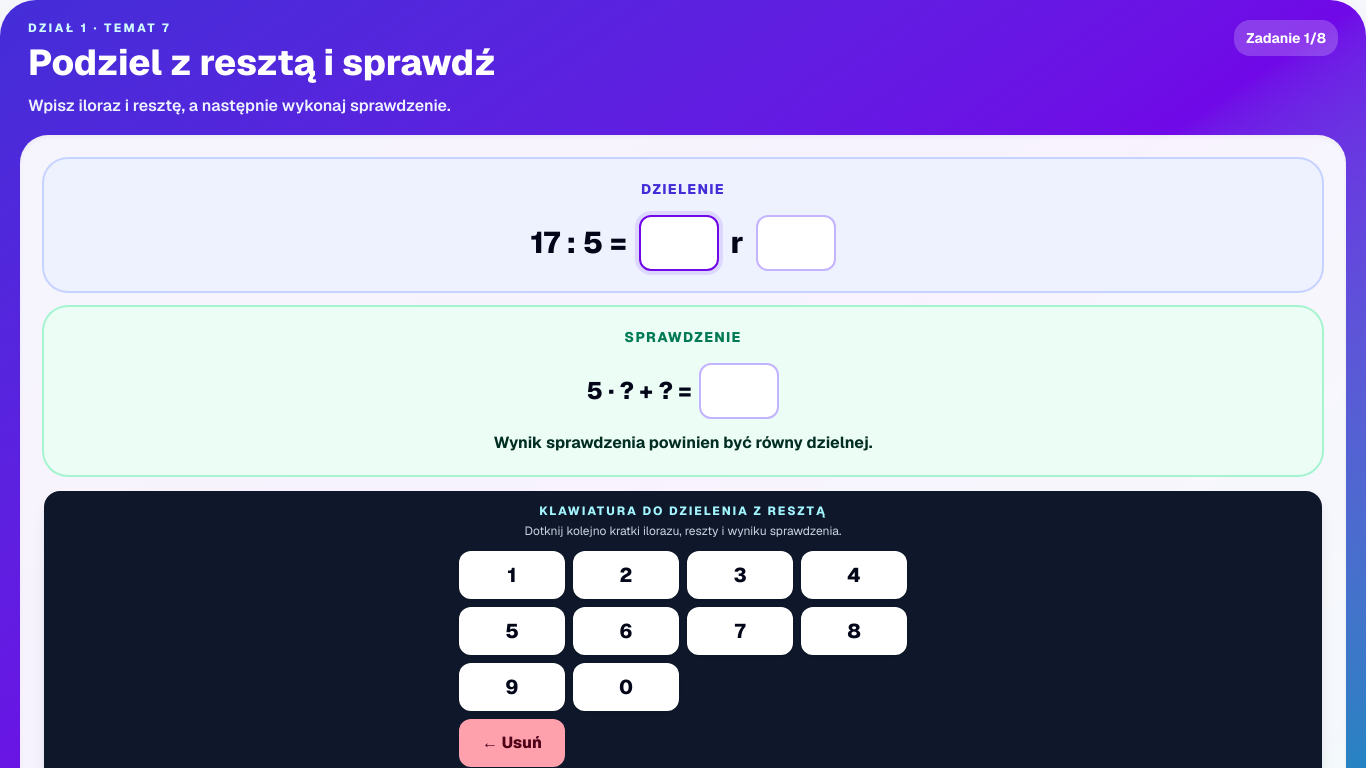
Grade4RemainderDivisionLessonLab › blokuje klawiaturę urządzenia i wymaga pełnego sprawdzenia
This screenshot has width=1366, height=768.
Click the button "3".
click(740, 575)  # box [687,551,793,599]
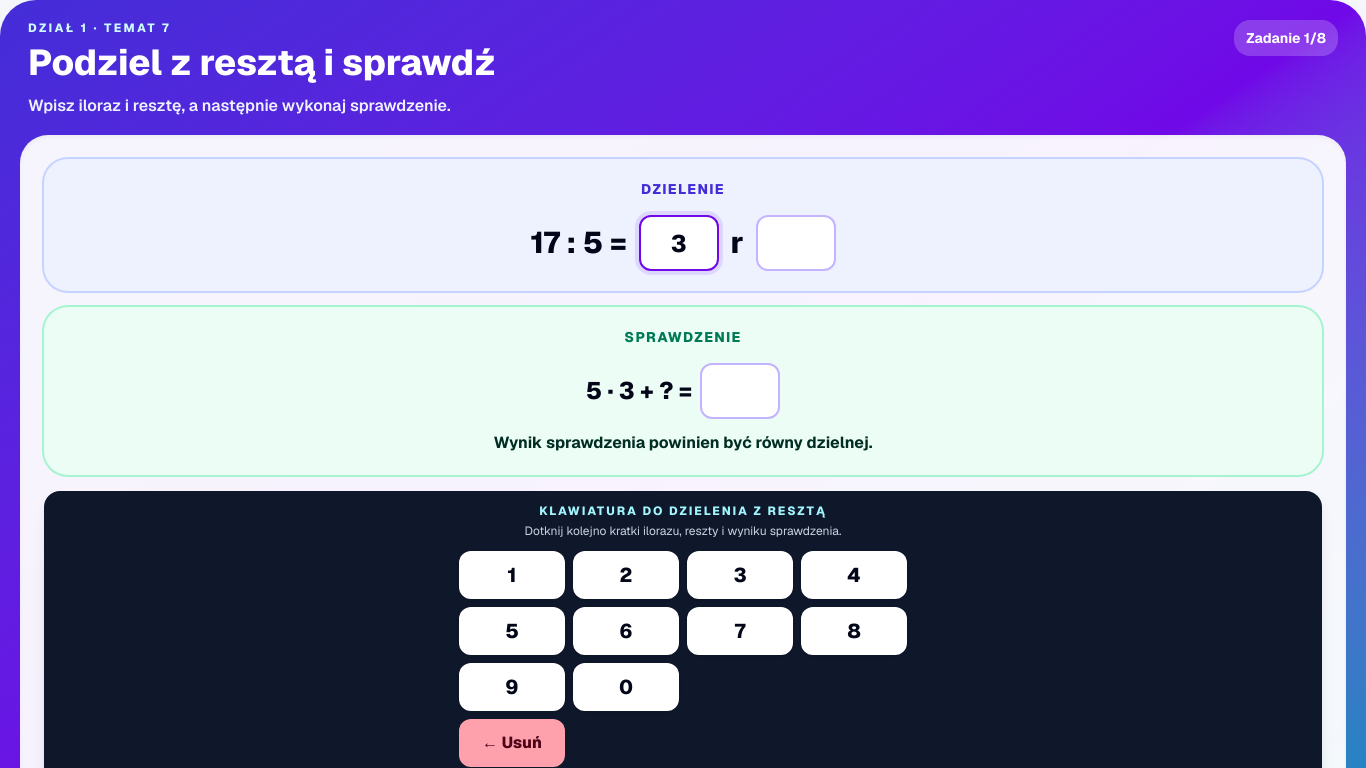
Click the field named "Reszta".
click(796, 243)  # box [756,215,836,271]
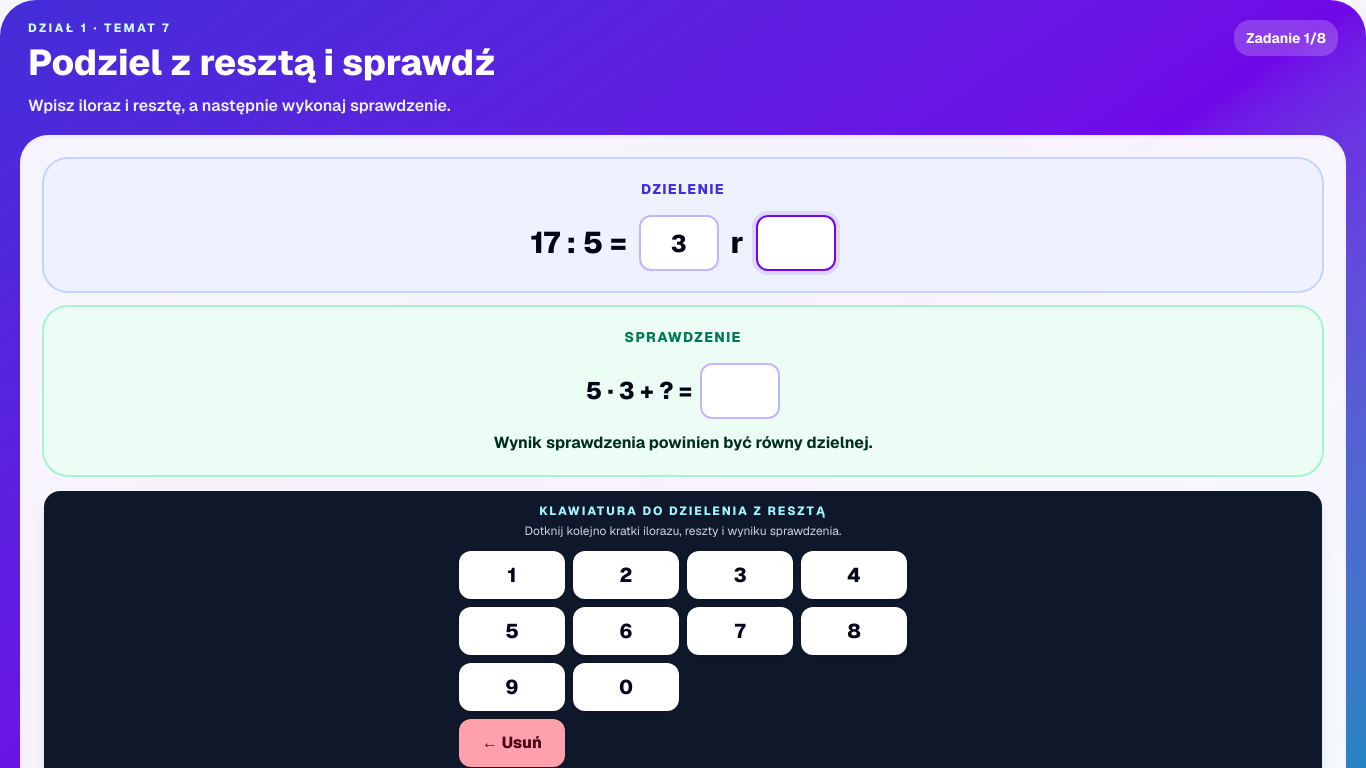
Click the button "2".
click(626, 575)  # box [573,551,679,599]
(page scrolled)
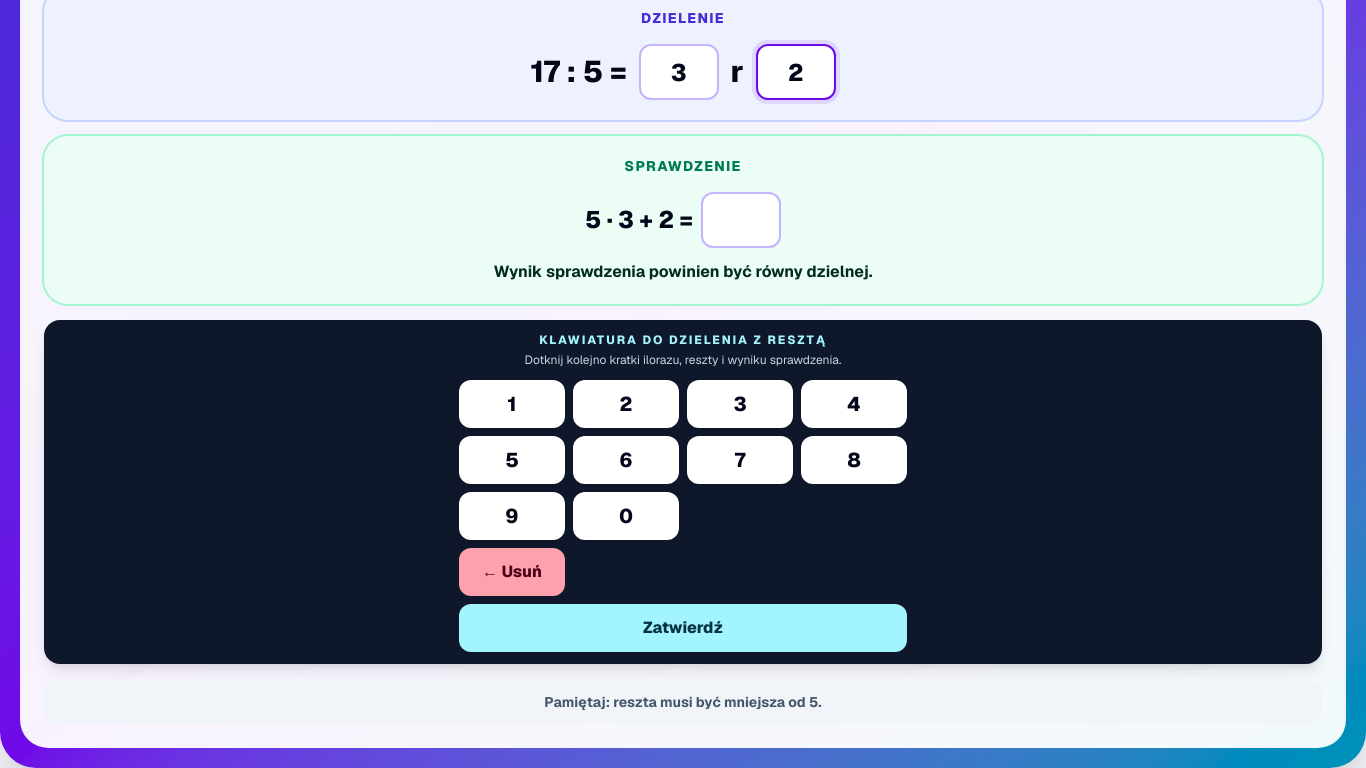
Click the button "Zatwierdź".
click(683, 628)  # box [459,604,907,652]
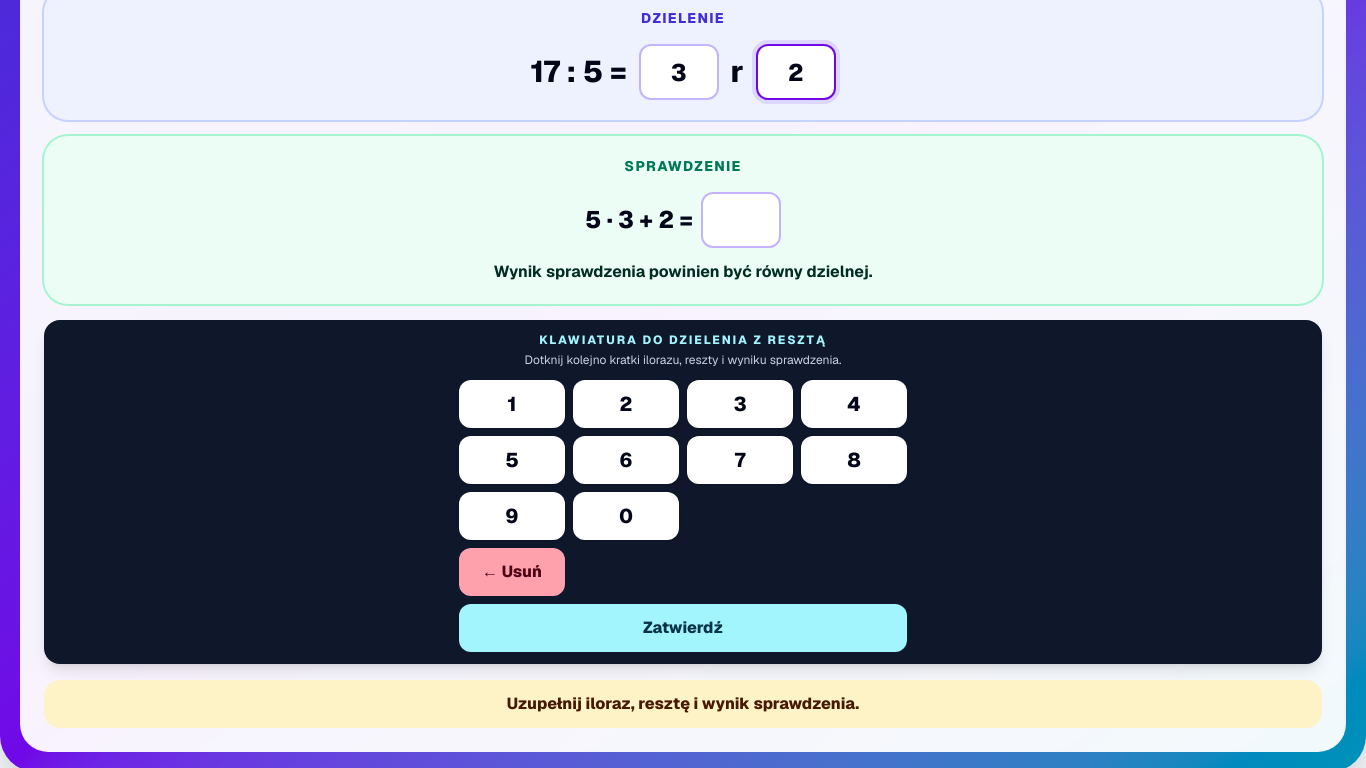
Now the message reads "Uzupełnij iloraz, resztę i wynik sprawdzenia.", box [507,693,859,714]
